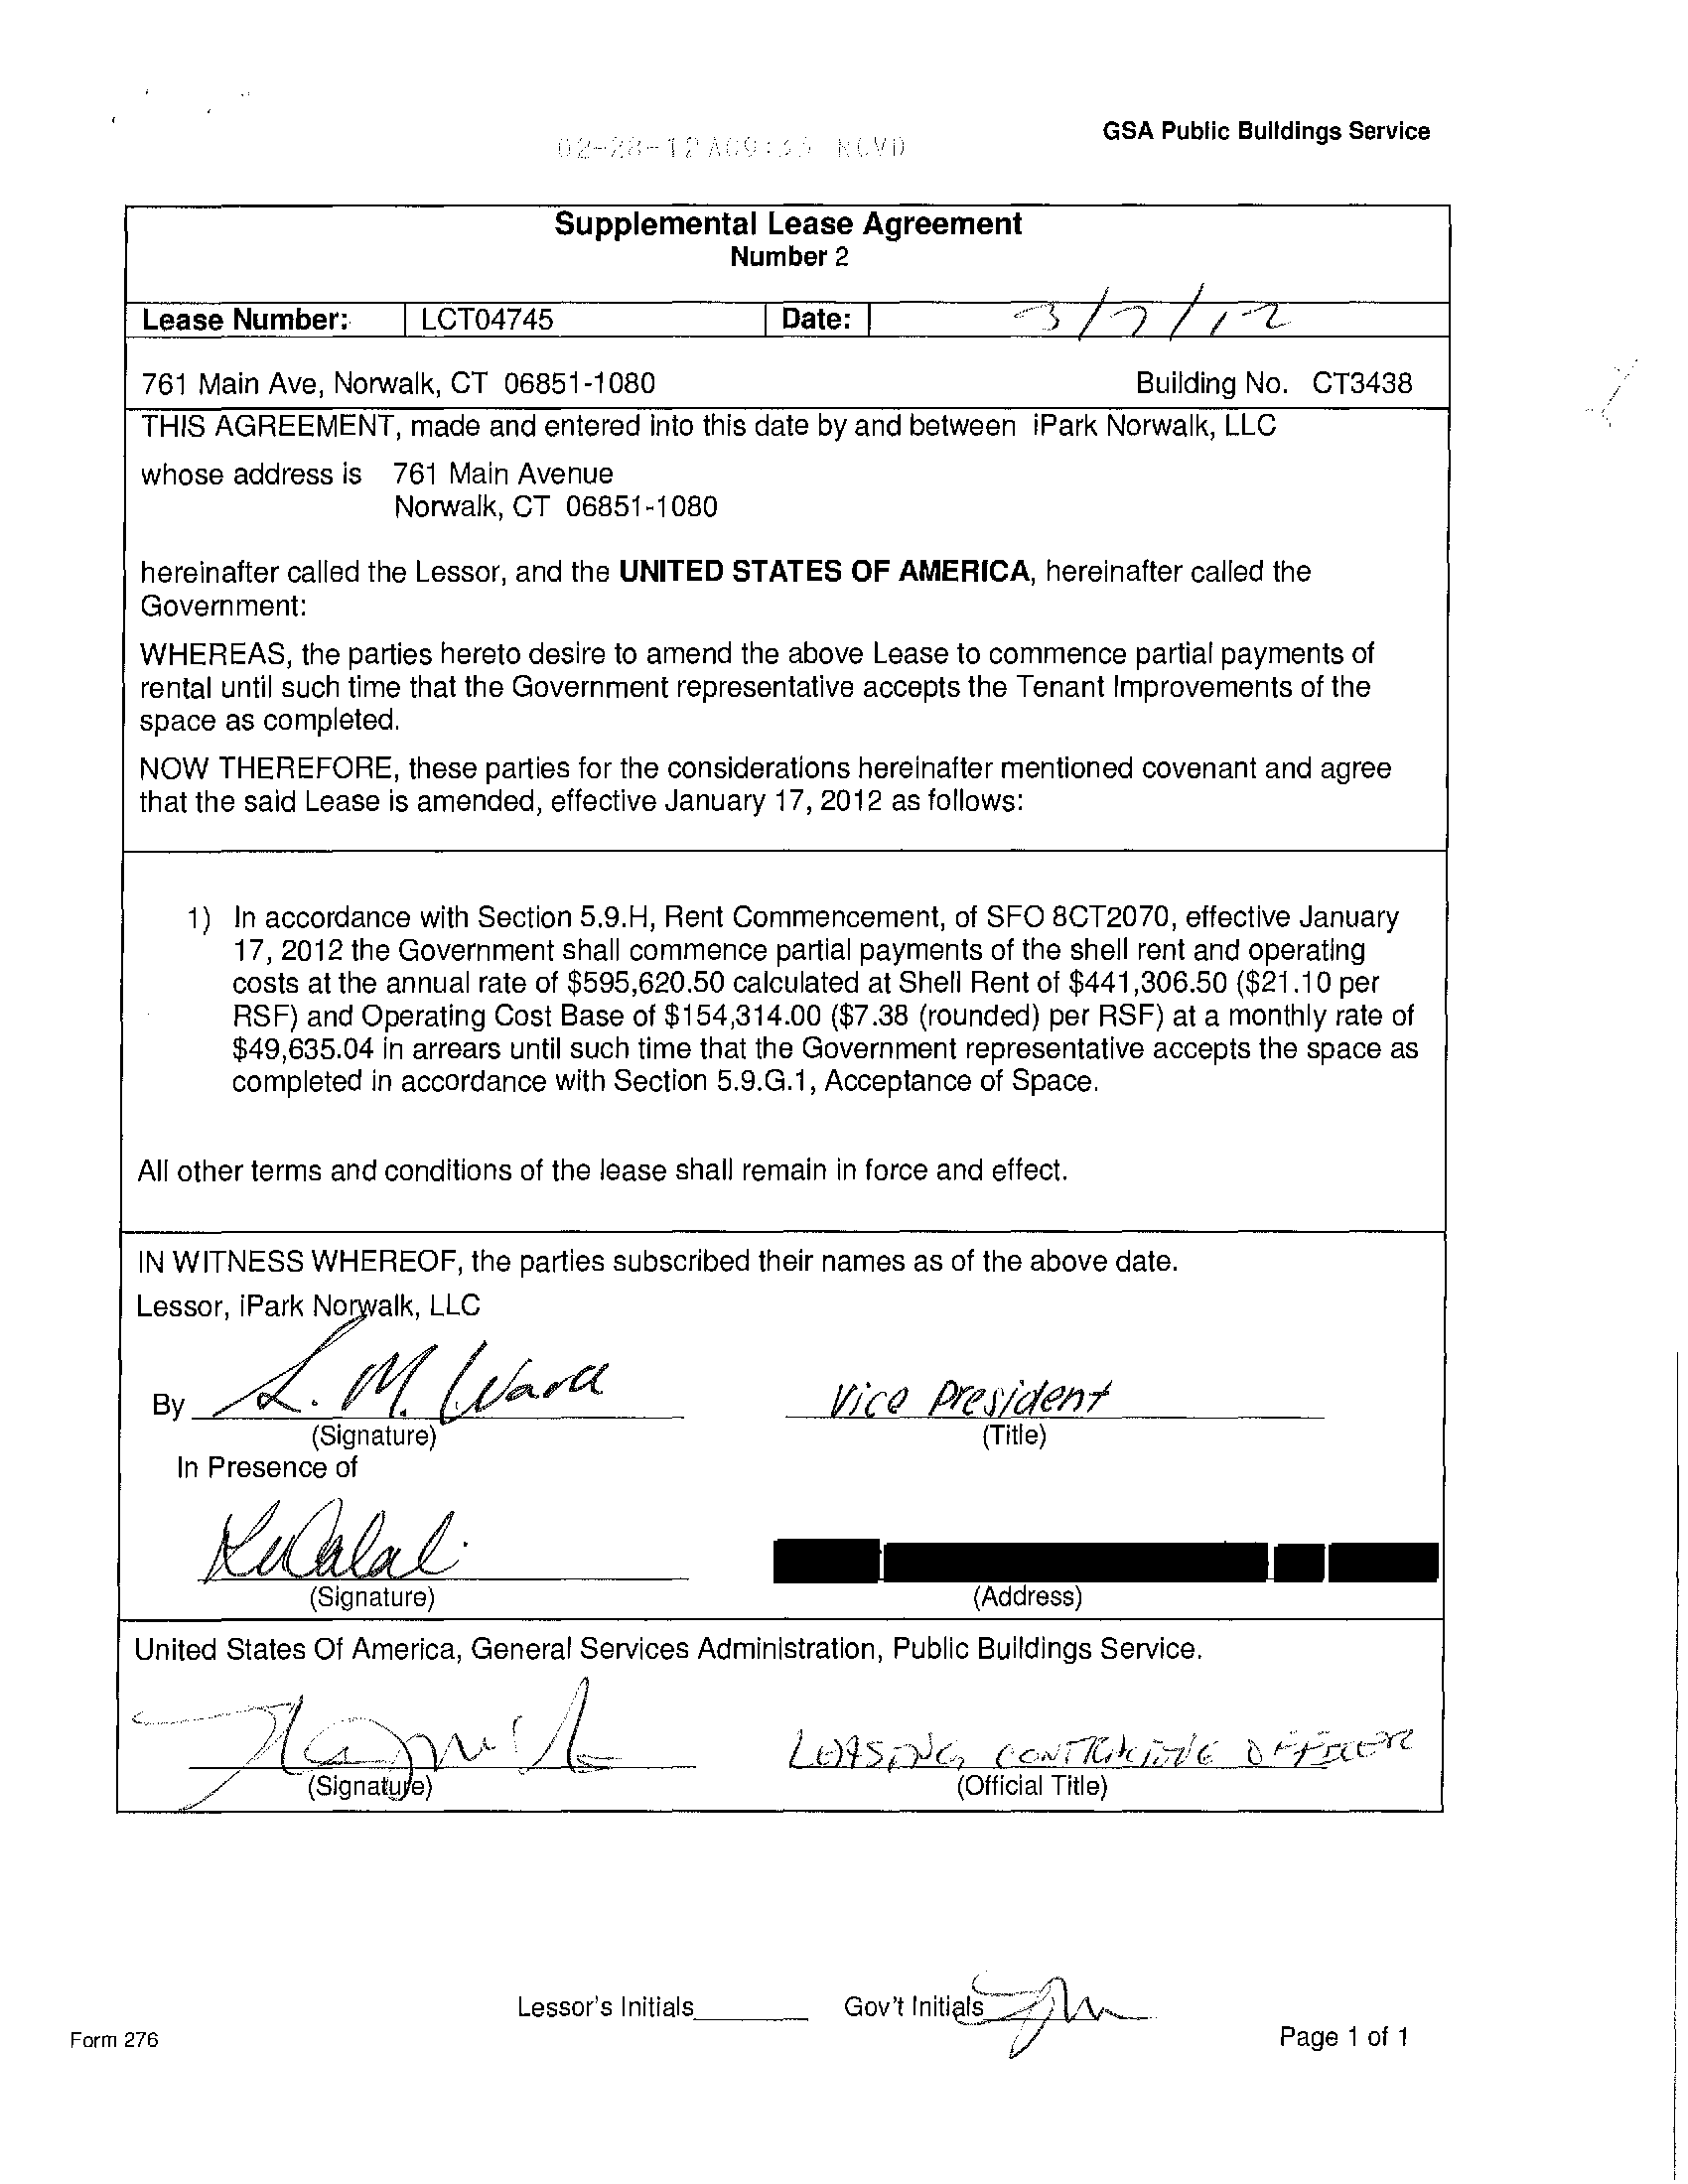handwritten: (147, 1679, 626, 1776), (209, 1314, 622, 1416), (778, 1714, 1417, 1769), (191, 1500, 481, 1590), (972, 1955, 1154, 2067), (1002, 284, 1303, 351), (809, 1360, 1131, 1418)
